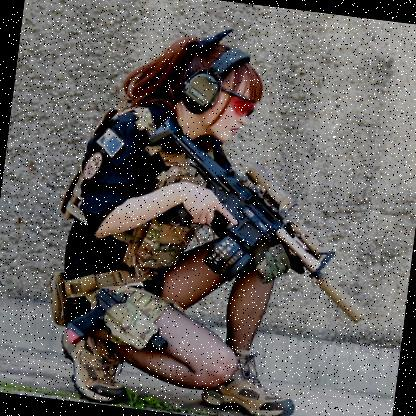rifle: (125, 107, 392, 339), (58, 275, 171, 363)
